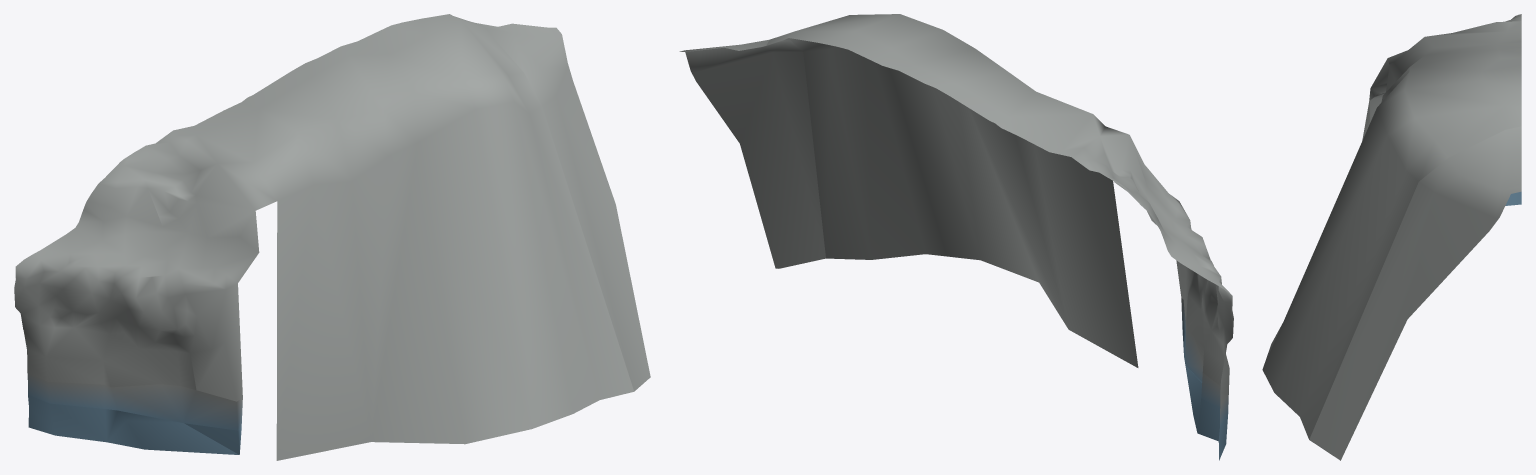
The picture shows the model from 3 angles, left to right: view 1: azimuth 30°, elevation 25°; view 2: azimuth 150°, elevation 25°; view 3: azimuth 270°, elevation 25°; orthographic projection. The views are drawn at different scales.
Parts seen in each view (by area): view 1: G:\FFXIV-MapTools\exports\w1f1\bg\ffxiv\wil_w1\fld\w1f1\bgpl (×3); view 2: G:\FFXIV-MapTools\exports\w1f1\bg\ffxiv\wil_w1\fld\w1f1\bgpl (×3); view 3: G:\FFXIV-MapTools\exports\w1f1\bg\ffxiv\wil_w1\fld\w1f1\bgpl (×3).
Part boxes in pixels (bbox=[...]): G:\FFXIV-MapTools\exports\w1f1\bg\ffxiv\wil_w1\fld\w1f1\bgpl (×3): bbox=[14, 14, 650, 460]; G:\FFXIV-MapTools\exports\w1f1\bg\ffxiv\wil_w1\fld\w1f1\bgpl (×3): bbox=[679, 14, 1233, 460]; G:\FFXIV-MapTools\exports\w1f1\bg\ffxiv\wil_w1\fld\w1f1\bgpl (×3): bbox=[1262, 14, 1521, 460].
Size of the model in its own units: 127 by 72.92 by 54.91.
